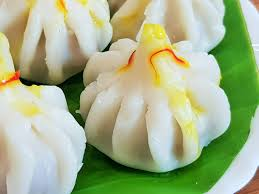modak: (81, 31, 246, 168), (1, 26, 89, 194)
